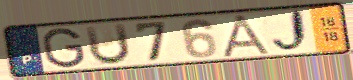6: (179, 17, 218, 60)
7: (134, 20, 170, 63)
A: (219, 13, 275, 59)
G: (41, 26, 88, 70)
J: (270, 8, 313, 56)
U: (82, 21, 133, 67)
